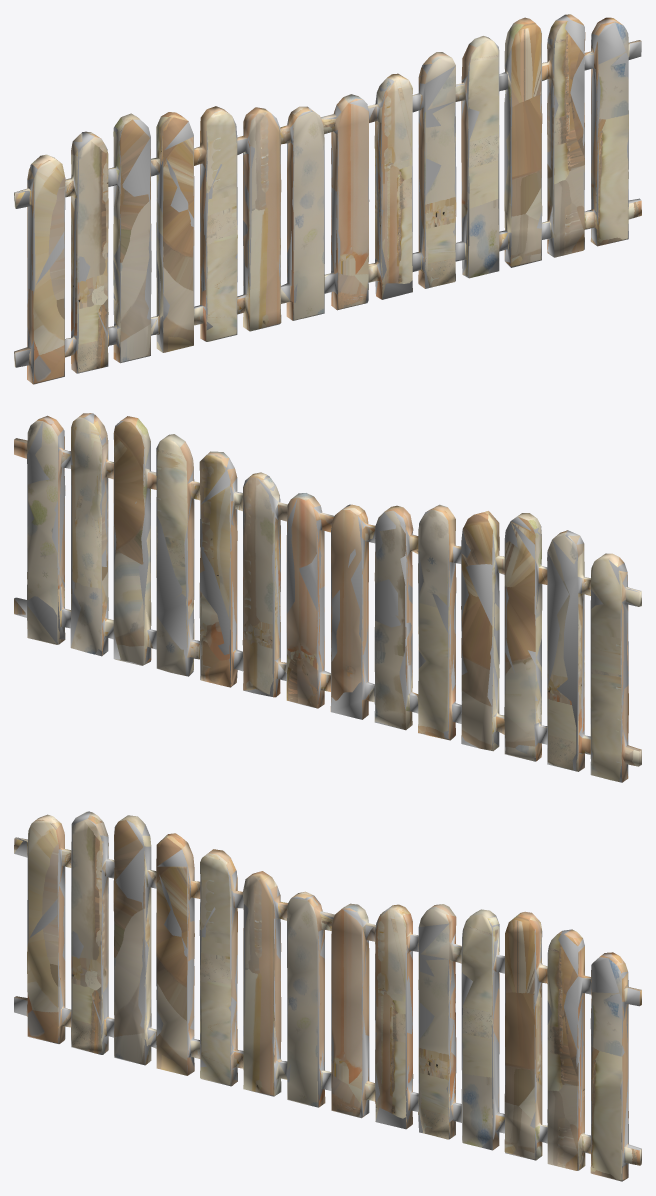
File: cit.fbx
The picture shows the model from 3 angles, top to bottom: view 1: azimuth 30°, elevation 25°; view 2: azimuth 150°, elevation 25°; view 3: azimuth 330°, elevation 25°; orthographic projection.
Parts seen in each view (by area): view 1: h, l; view 2: h, l; view 3: h, l.
Part boxes in pixels (bbox=[...]): h: bbox=[14, 14, 641, 384]; l: bbox=[14, 15, 641, 384]; h: bbox=[14, 413, 641, 782]; l: bbox=[14, 413, 640, 782]; h: bbox=[14, 811, 641, 1180]; l: bbox=[14, 811, 641, 1181].
Bounding box in the file's own units: 191 × 70.39 × 3.69.
